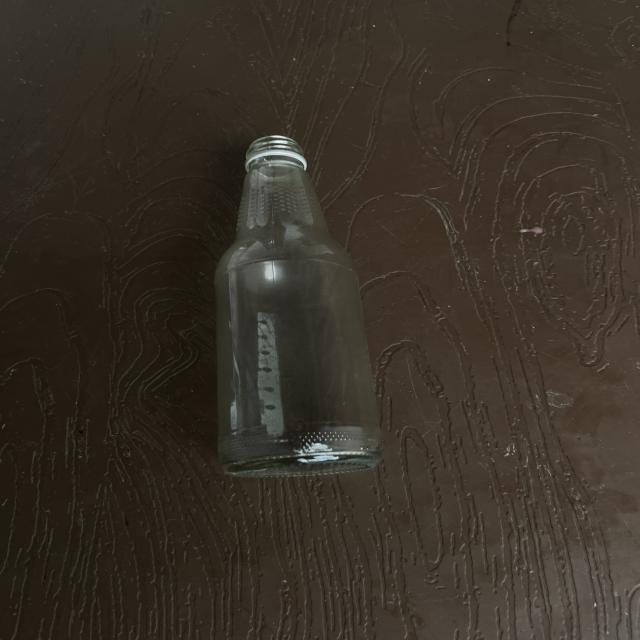Glass_Bottle: (215, 136, 382, 477)
